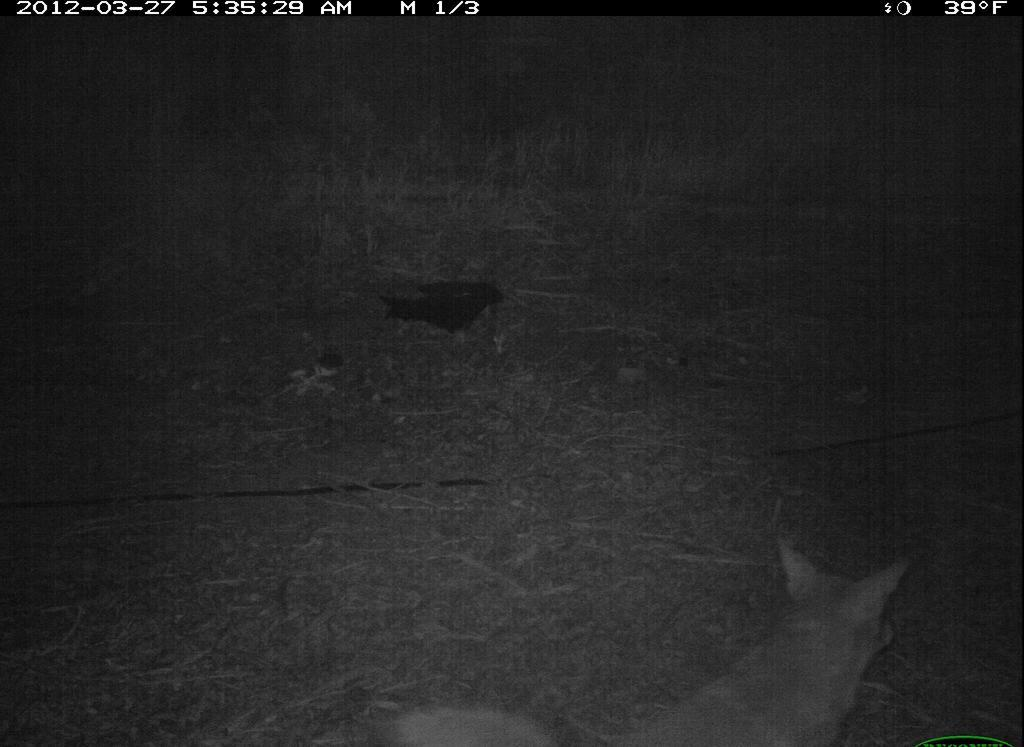coyote: (551, 547, 903, 747)
